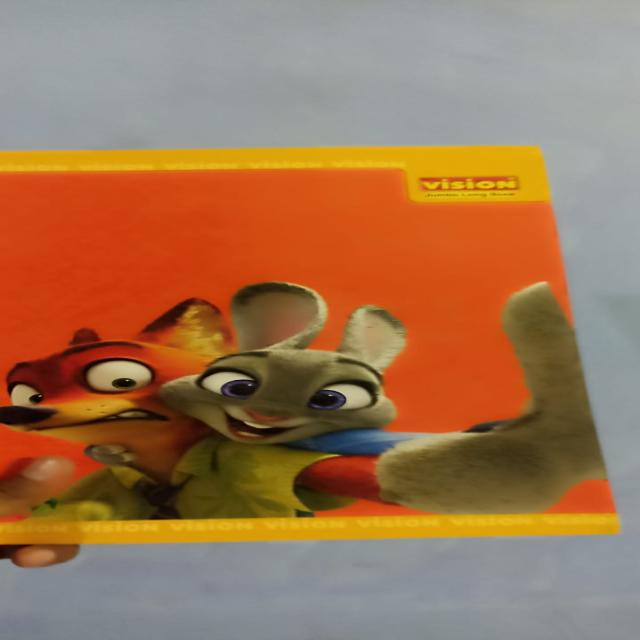book: (0, 146, 623, 544)
